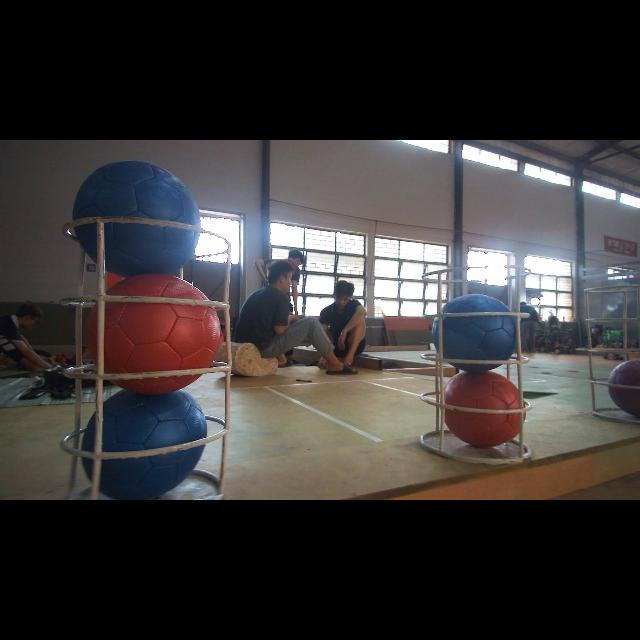B: (72, 160, 202, 276), (88, 392, 206, 500), (431, 293, 523, 373)
R: (89, 276, 223, 392), (440, 374, 524, 451)
